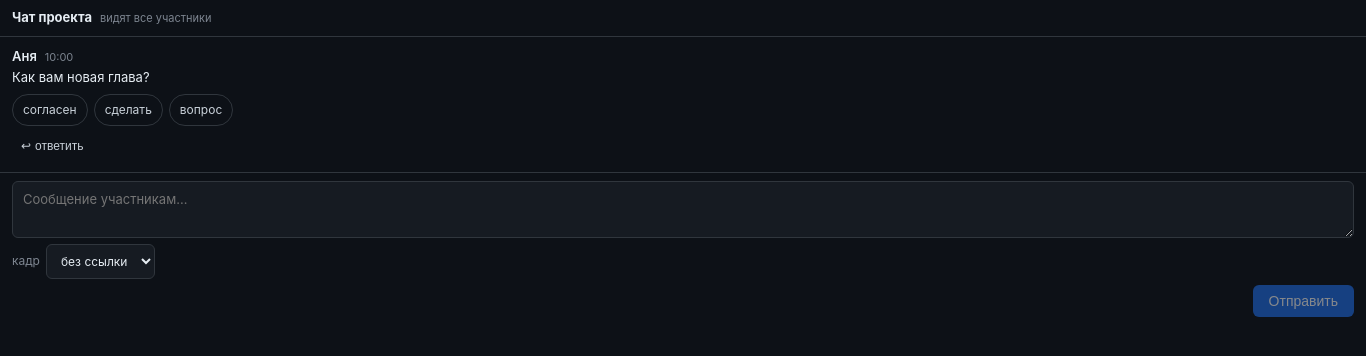
Test case: ProjectChat › отметка не поставилась — причина видна рядом, лента не портится (0.98.0)
What coordinates should you click on to do the following:
click the button labelled "вопрос"
I would click on:
 (201, 110)
Its box is [169,94,233,126].
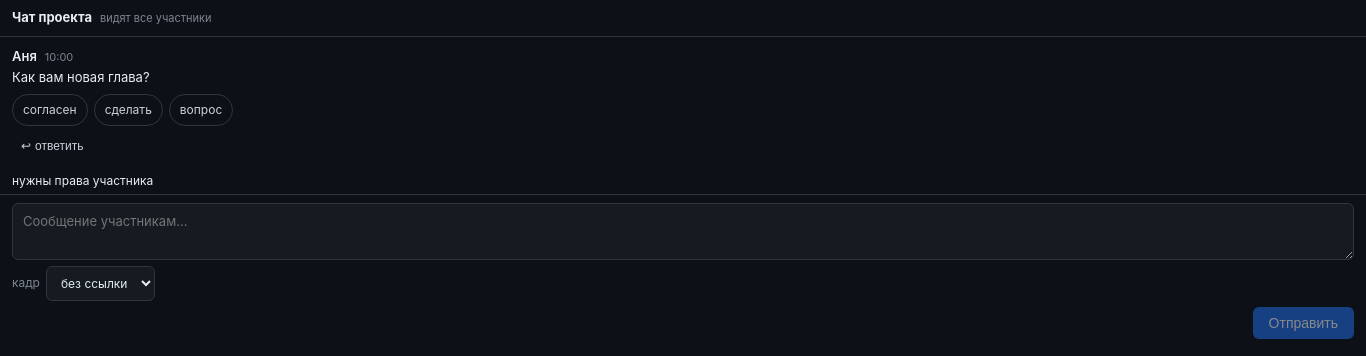
Expected: the text "нужны права участника" is shown, [12,172,153,188]
